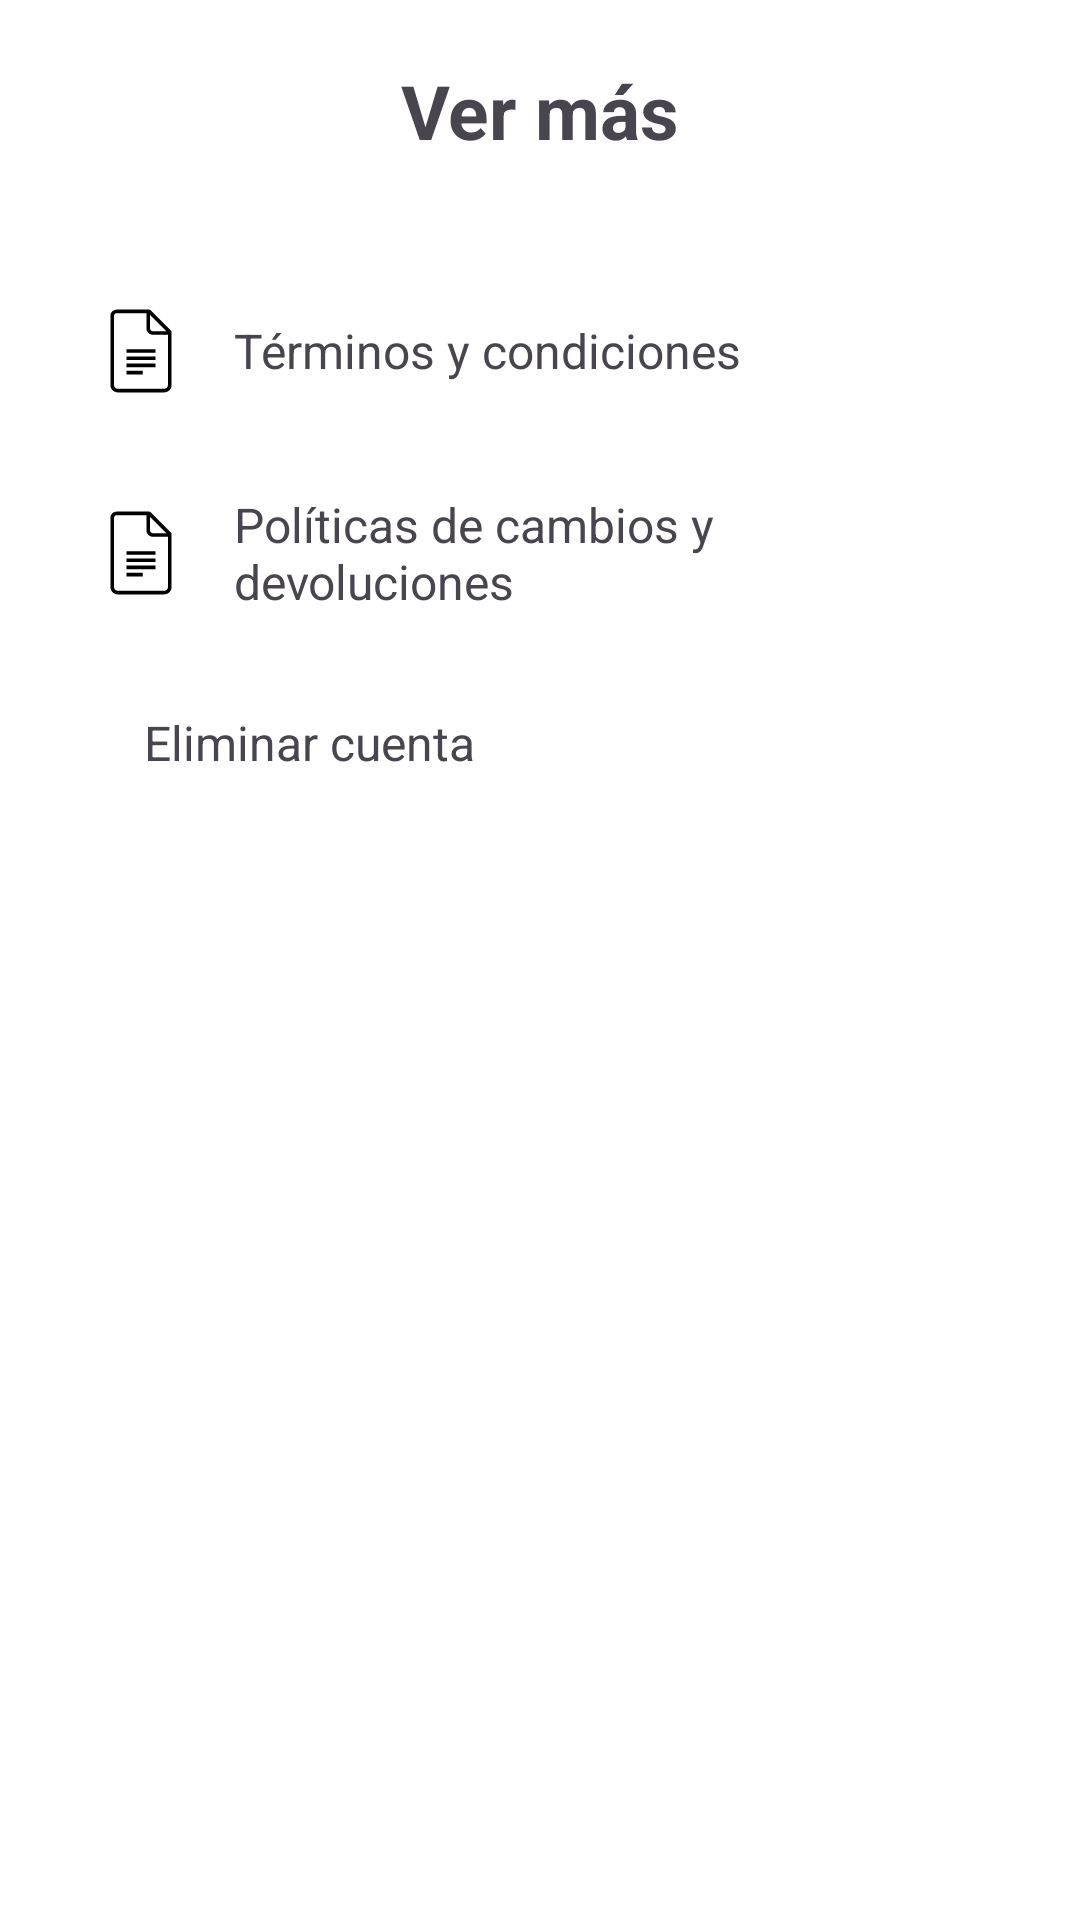

Screen size 1080×1920. Icon name, then its center in pixels as (x=x, y=y):
docs: (x=141, y=351), (x=141, y=553)
